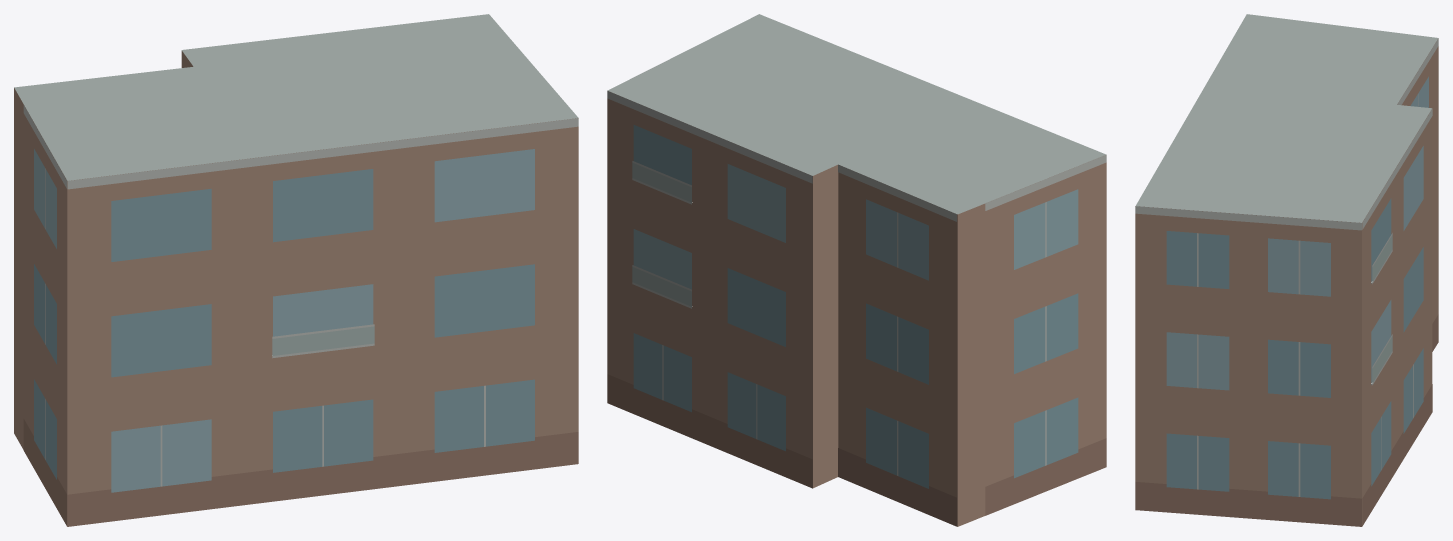
File: survey-upis-32781806.glb
The picture shows the model from 3 angles, left to right: view 1: azimuth 30°, elevation 25°; view 2: azimuth 150°, elevation 25°; view 3: azimuth 270°, elevation 25°; orthographic projection. The views are drawn at different scales.
Parts seen in each view (by area): view 1: survey-upis-32781806.tmp; view 2: survey-upis-32781806.tmp; view 3: survey-upis-32781806.tmp.
Part boxes in pixels (left/top/right/bottom): survey-upis-32781806.tmp: left=14, top=14, right=578, bottom=526; survey-upis-32781806.tmp: left=607, top=14, right=1106, bottom=526; survey-upis-32781806.tmp: left=1135, top=14, right=1438, bottom=526.
Bounding box in the file's own units: 14.45 × 9.8 × 8.87.
